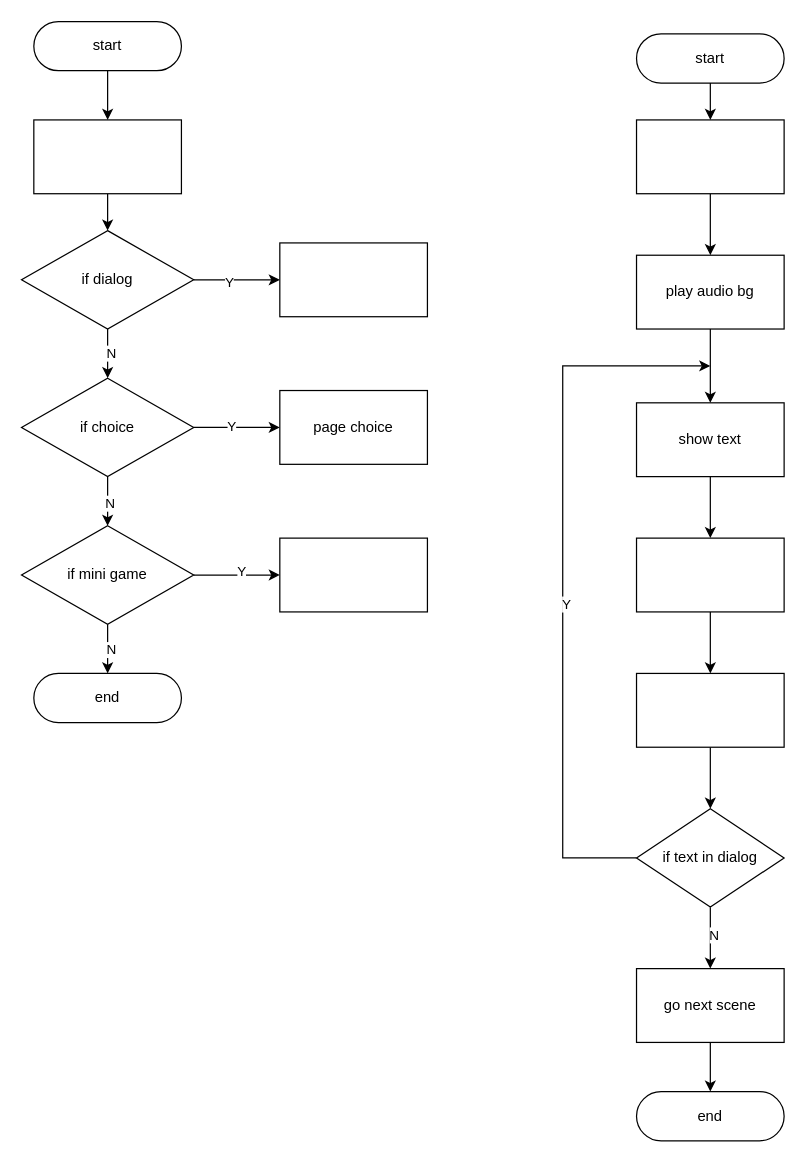
Some shapes in this 806 by 1162 pixel diagram are drawn without their labels. Each missing label, with the centre of its shape:
load data scene: (x=107, y=156)
page dialog: (x=353, y=279)
page mini game: (x=353, y=574)
play sound speech: (x=709, y=709)
show bg: (x=709, y=156)
show speaker: (x=709, y=574)
